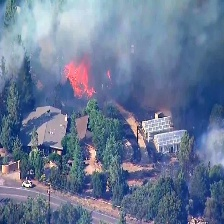fire: (59, 62, 106, 98)
smoke: (1, 1, 224, 95), (193, 131, 224, 163)
